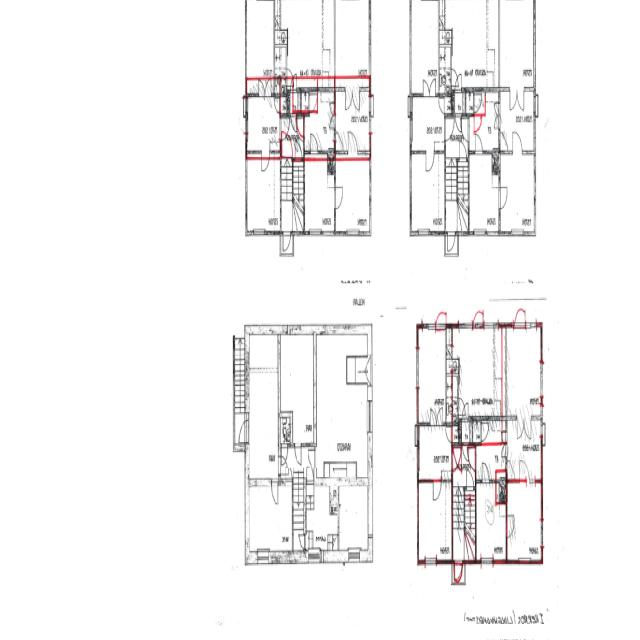door: (514, 291, 526, 327), (473, 292, 483, 328), (436, 296, 446, 327), (512, 123, 522, 153), (282, 131, 291, 161), (237, 420, 249, 442), (453, 442, 462, 471), (466, 447, 476, 472), (451, 449, 461, 472), (498, 187, 508, 210), (426, 150, 434, 178), (306, 460, 314, 486), (284, 459, 292, 485), (455, 558, 463, 584), (474, 114, 482, 139), (460, 121, 470, 141), (475, 128, 483, 153), (448, 229, 456, 253), (454, 69, 462, 93), (444, 121, 454, 140), (467, 465, 474, 490), (517, 88, 524, 113), (510, 88, 517, 113), (278, 456, 287, 474), (460, 139, 467, 162), (295, 110, 302, 132), (282, 443, 288, 468), (308, 450, 316, 468), (271, 478, 277, 502), (295, 444, 301, 466), (455, 114, 461, 136), (430, 76, 436, 98), (423, 76, 429, 98), (451, 68, 458, 86), (298, 535, 306, 550), (489, 486, 496, 501), (438, 114, 443, 132)
